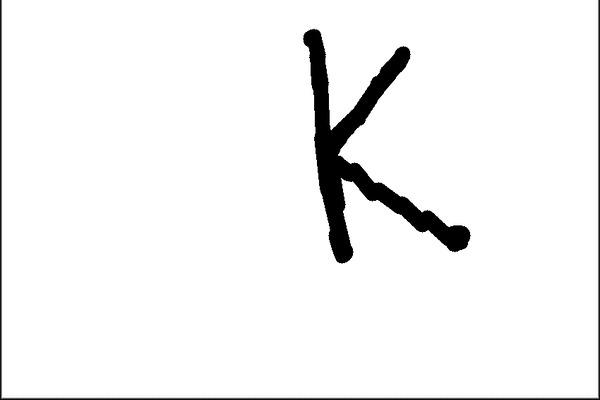K: (291, 22, 480, 272)
